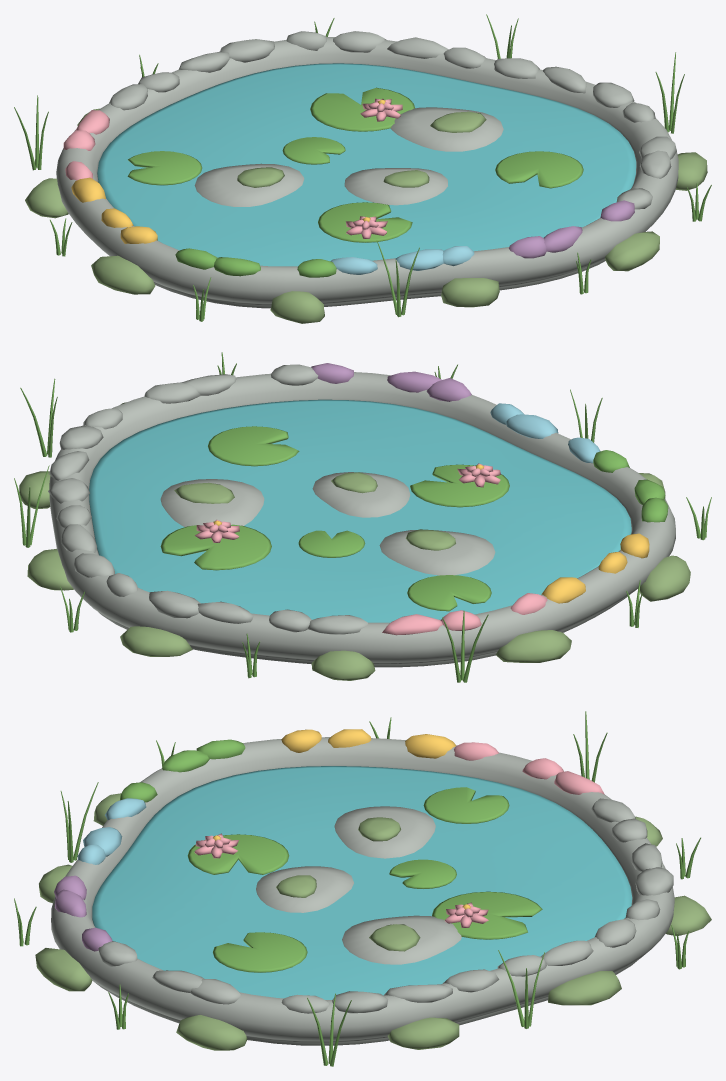
File: decor-rainbow-pond.glb
3 renders of one model, top to bottom at view 1: azimuth 30°, elevation 25°; view 2: azimuth 150°, elevation 25°; view 3: azimuth 270°, elevation 25°, orthographic. The views are drawn at different scales.
Parts seen in each view (by area): view 1: rainbow-pond-water.005, rainbow-pond-stone.005, rainbow-pond-leaf.005, rainbow-pond-moss.005, rainbow-pond-pink.005, rainbow-pond-plum.005, rainbow-pond-sky.005, rainbow-pond-gold.005; view 2: rainbow-pond-water.005, rainbow-pond-stone.005, rainbow-pond-leaf.005, rainbow-pond-moss.005, rainbow-pond-pink.005, rainbow-pond-plum.005, rainbow-pond-gold.005, rainbow-pond-sky.005; view 3: rainbow-pond-water.005, rainbow-pond-stone.005, rainbow-pond-leaf.005, rainbow-pond-moss.005, rainbow-pond-pink.005, rainbow-pond-gold.005, rainbow-pond-sky.005, rainbow-pond-plum.005.
Boxes of the visible parts, box(x1,y1,x2,y2) form: rainbow-pond-water.005: box(97, 63, 636, 266); rainbow-pond-stone.005: box(56, 31, 678, 308); rainbow-pond-leaf.005: box(14, 14, 711, 321); rainbow-pond-moss.005: box(25, 108, 707, 323); rainbow-pond-pink.005: box(63, 98, 402, 238); rainbow-pond-plum.005: box(509, 200, 634, 258); rainbow-pond-sky.005: box(330, 246, 474, 274); rainbow-pond-gold.005: box(71, 99, 385, 243); rainbow-pond-water.005: box(89, 399, 631, 622); rainbow-pond-stone.005: box(48, 364, 675, 667); rainbow-pond-leaf.005: box(14, 352, 711, 682); rainbow-pond-moss.005: box(19, 402, 690, 680); rainbow-pond-pink.005: box(195, 463, 547, 635); rainbow-pond-plum.005: box(311, 363, 471, 401); rainbow-pond-gold.005: box(213, 464, 649, 603); rainbow-pond-sky.005: box(490, 403, 600, 463); rainbow-pond-water.005: box(92, 766, 632, 999); rainbow-pond-stone.005: box(51, 737, 674, 1045); rainbow-pond-leaf.005: box(14, 711, 700, 1066); rainbow-pond-moss.005: box(35, 793, 711, 1050); rainbow-pond-pink.005: box(194, 742, 604, 927); rainbow-pond-gold.005: box(213, 729, 470, 909); rainbow-pond-sky.005: box(77, 798, 146, 864); rainbow-pond-plum.005: box(54, 875, 112, 951).
Size of the model in its own units: 6.93 by 0.7678 by 6.43.
